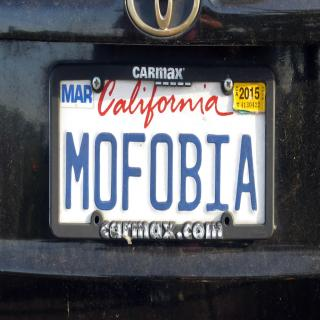license: (49, 67, 277, 243)
